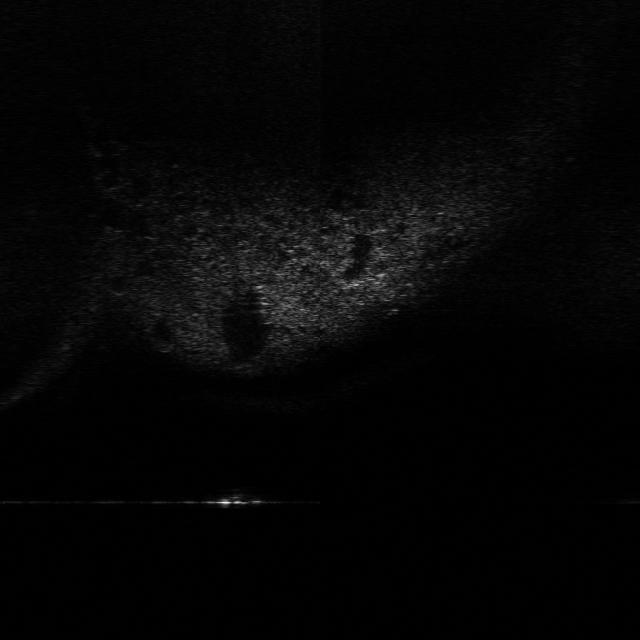cube: (197, 484, 271, 512)
